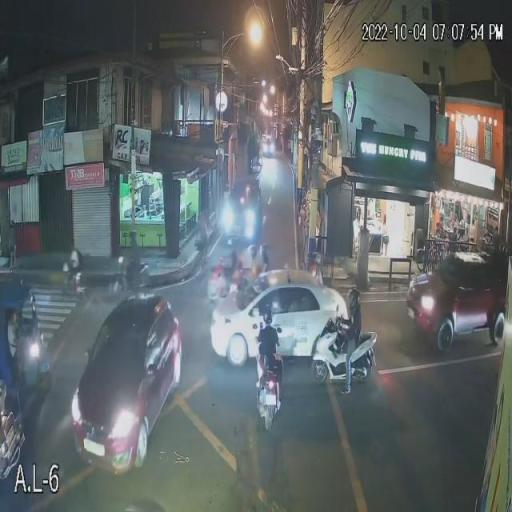helmet: (346, 290, 363, 312), (261, 310, 274, 328), (226, 236, 239, 249), (258, 242, 270, 256), (128, 230, 142, 242), (248, 244, 259, 257)
motorcycle: (310, 326, 380, 386), (254, 365, 283, 435), (108, 256, 151, 294), (207, 262, 252, 298)
rider: (339, 305, 363, 395), (254, 325, 284, 359), (126, 246, 142, 288), (223, 249, 237, 295), (251, 260, 260, 277), (261, 256, 269, 271)
